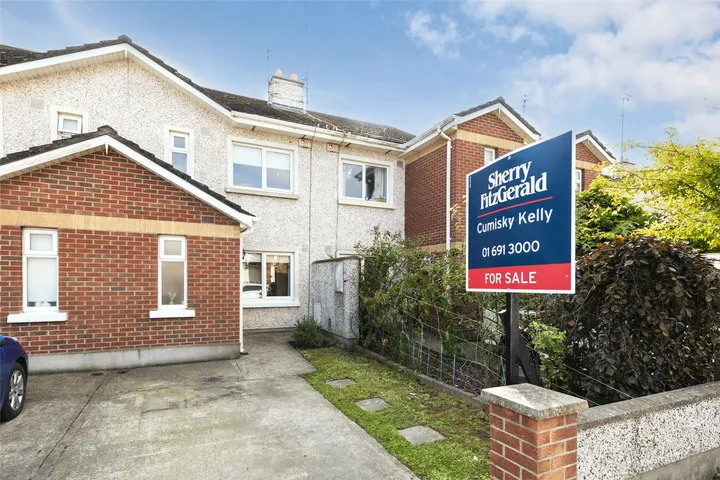property sign: (450, 125, 599, 303)
